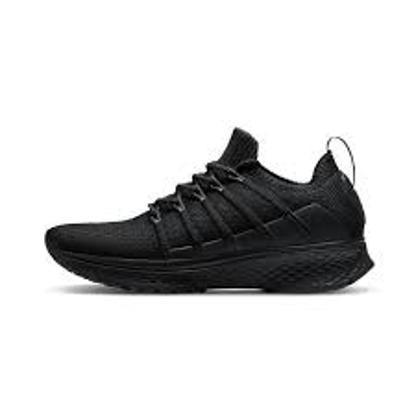not trash: (39, 122, 378, 293)
